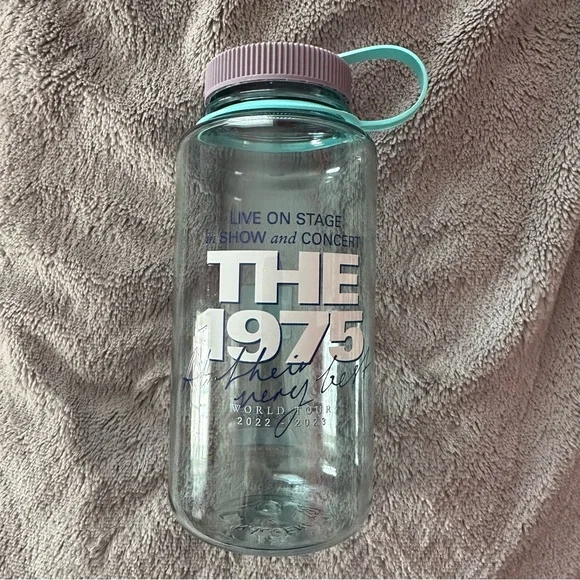bottle: (166, 44, 430, 559)
